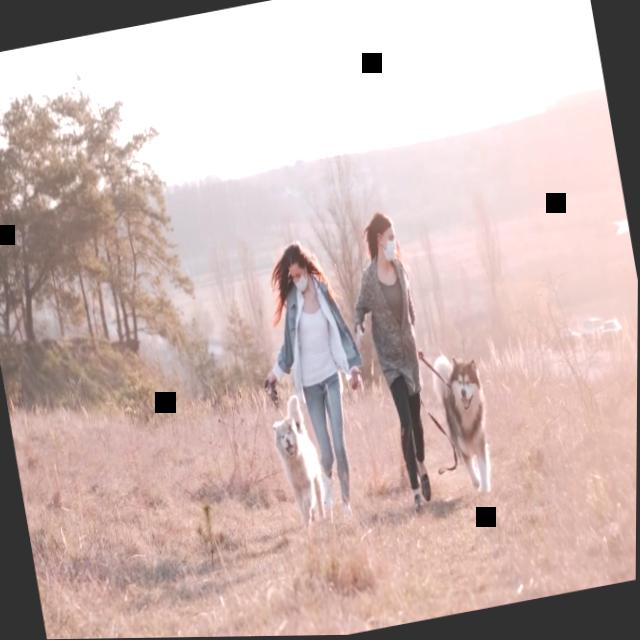Mask: (376, 227, 401, 268), (289, 264, 313, 296)
